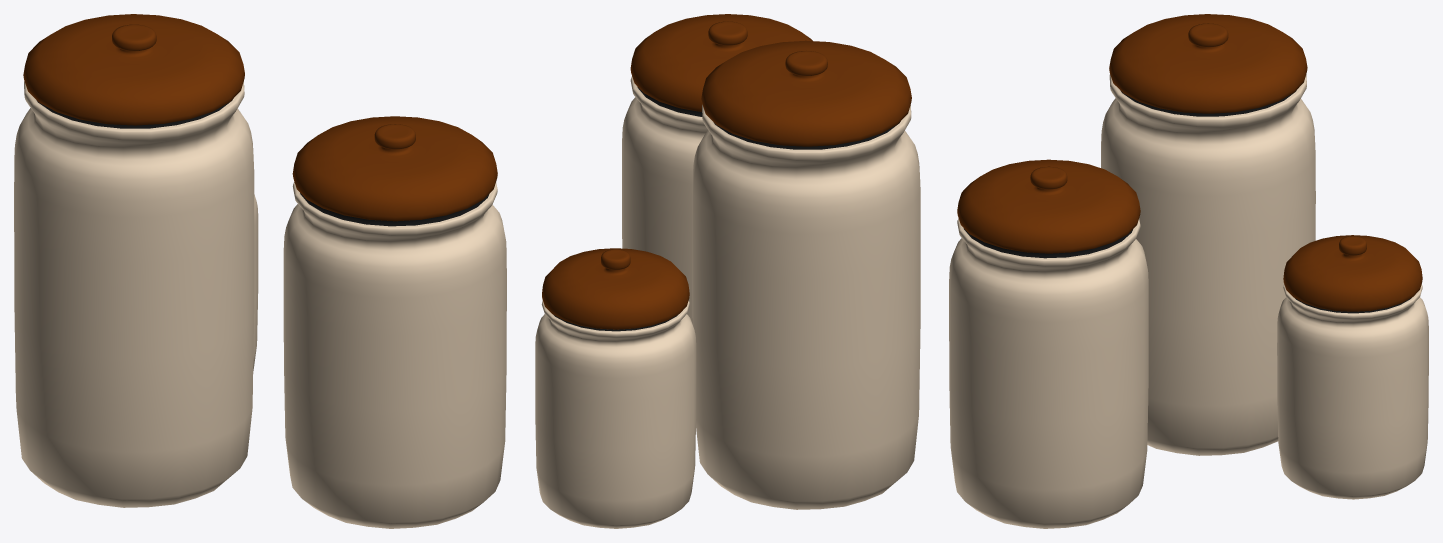
The model's file is JarSet_Final.fbx.
3 views of the same model, side by side, from view 1: azimuth 30°, elevation 25°; view 2: azimuth 150°, elevation 25°; view 3: azimuth 270°, elevation 25° (orthographic). The views are drawn at different scales.
Parts seen in each view (by area): view 1: Jar_.001; view 2: Jar_.001; view 3: Jar_.001.
Part boxes in pixels (x1,y1,x2,y2): Jar_.001: (14, 14, 506, 528); Jar_.001: (535, 14, 920, 528); Jar_.001: (949, 14, 1428, 528).
Bounding box in the file's own units: 213 × 240 × 266.
